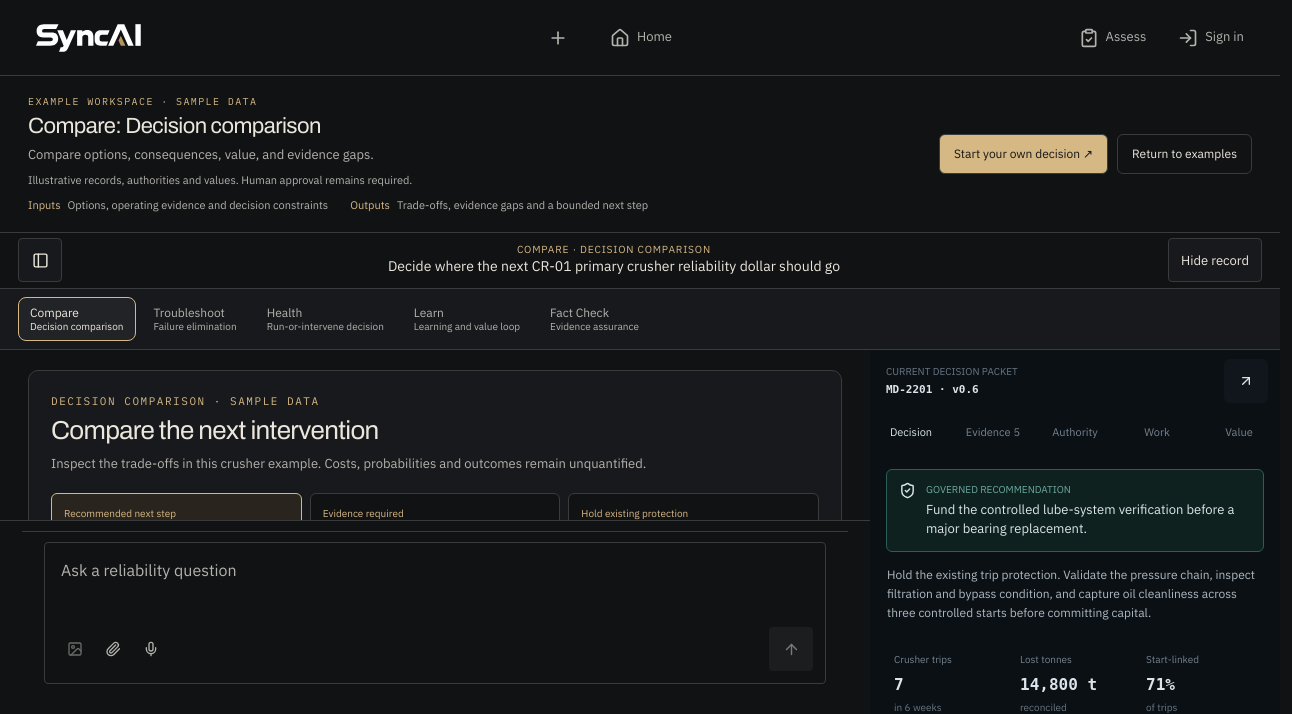
Test case: blocked storage prevents sign-in from discarding the in-memory conversation
Expected: the element "Example workspace" is shown, top-left (0, 76), bottom-right (1280, 233)
Click the link "Sign in" at [1211, 38], box top-left (1178, 28), bottom-right (1244, 48)
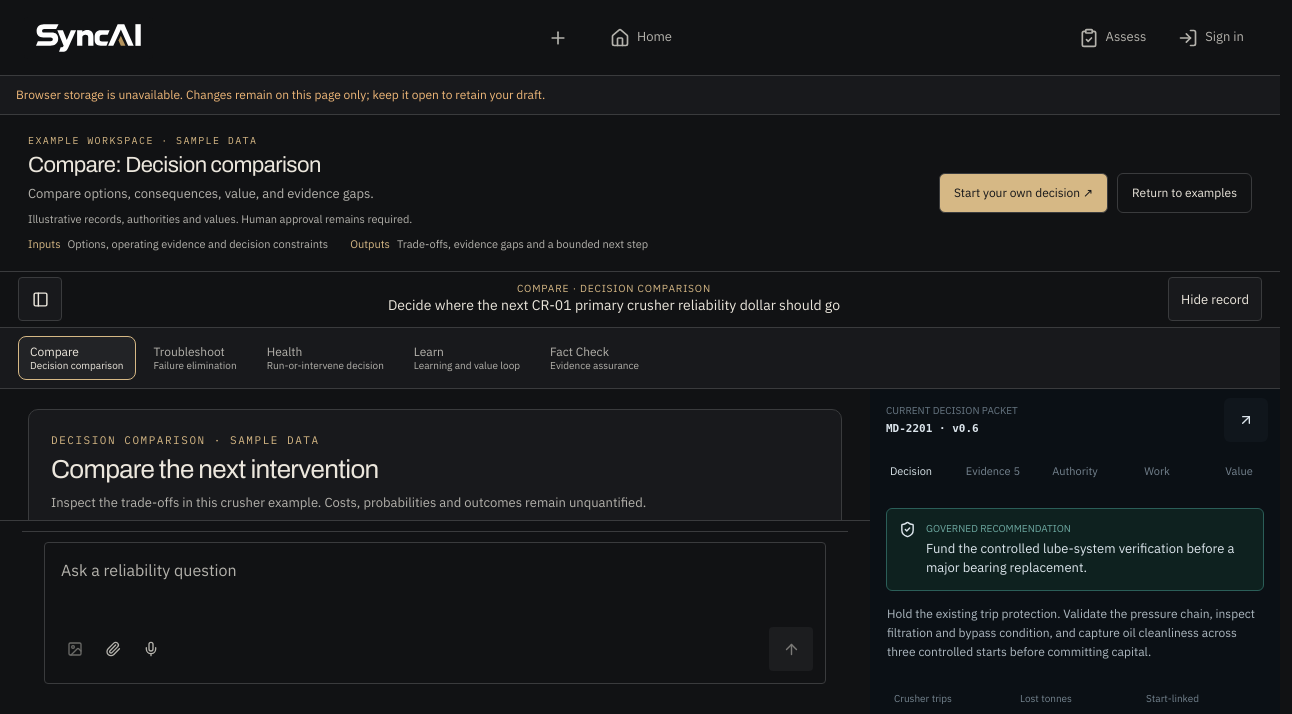
Expected: the element with class "dw-thread" is shown, top-left (0, 389), bottom-right (870, 520)
Now the text "Browser storage is unavailable" is shown, box top-left (16, 87), bottom-right (545, 102)
